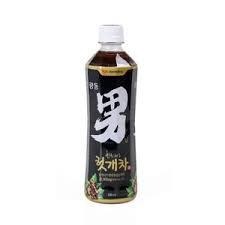heotgaecha: (85, 23, 139, 205)
